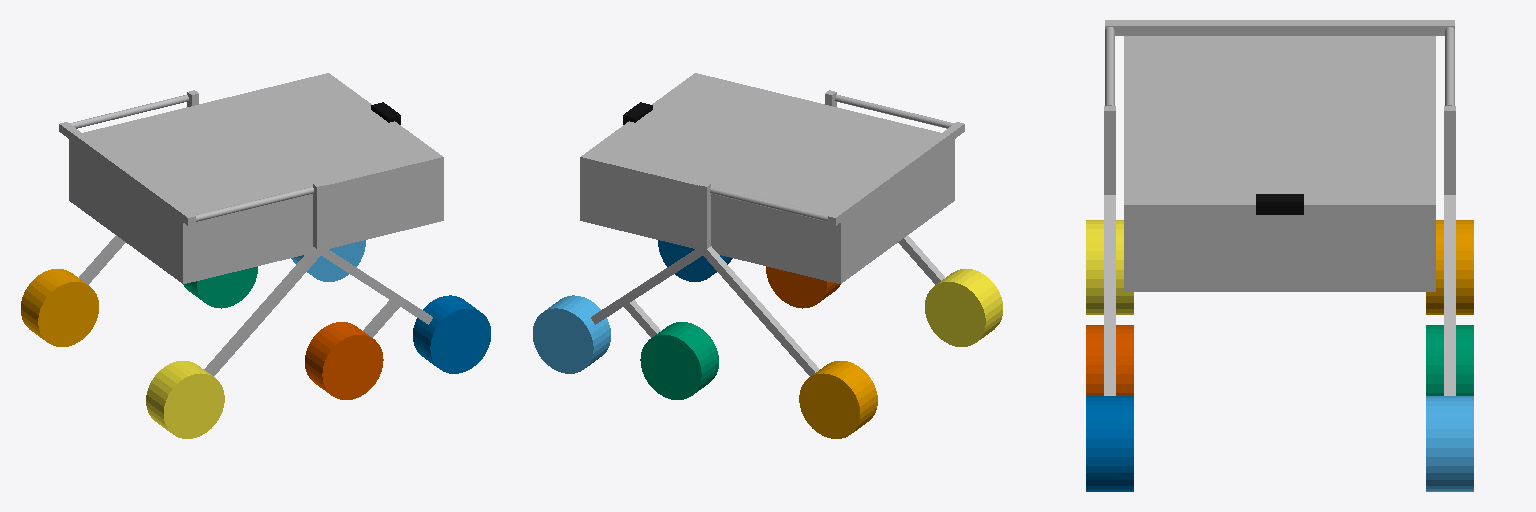
robot.urdf — rover:
<robot name="rover">
  <material name="silver">
    <color rgba="0.75 0.75 0.75 1.0"/>
  </material>

  <link name="base_link">

    <inertial>
      <origin xyz="0 0 0" rpy="0 0 0"/>
      <mass value="10.783699848541888"/>
      <inertia
        ixx="0.4116"
        iyy="0.8034"
        izz="1.0141"
        ixy="0.0"
        ixz="0.0"
        iyz="0.0"/>
    </inertial>

    <visual>
      <origin xyz="0 0 0" rpy="0 0 0"/>
      <geometry>
        <box size="0.85 0.65 0.20"/>
      </geometry>
      <material name="silver"/>
    </visual>

    <collision>
      <origin xyz="0 0 0" rpy="0 0 0"/>
      <geometry>
        <box size="0.85 0.65 0.20"/>
      </geometry>
    </collision>

  </link>

  <link name="differential_bar_link">

  <inertial>
    <origin xyz="0 0 0.0125" rpy="0 0 0"/>
    <mass value="1.2065624999999998"/>
    <inertia
      ixx="0.0536"
      iyy="0.000063"
      izz="0.0536"
      ixy="0.0"
      ixz="0.0"
      iyz="0.0"/>
  </inertial>

  <visual>
    <origin xyz="0 0 0.0125" rpy="0 0 0"/>
    <geometry>
      <box size="0.025 0.73 0.025"/>
    </geometry>
    <material name="silver"/>
  </visual>

  <collision>
    <origin xyz="0 0 0.0125" rpy="0 0 0"/>
    <geometry>
      <box size="0.025 0.73 0.025"/>
    </geometry>
  </collision>

</link>

<link name="support_left_link">

  <inertial>
    <origin xyz="0.19375 0 0" rpy="0 1.57079632679 0"/>
    <mass value="0.24353234277329294"/>

    <inertia
      ixx="0.00001218"
      iyy="0.003050"
      izz="0.003050"
      ixy="0"
      ixz="0"
      iyz="0"/>
  </inertial>

  <visual>
    <origin xyz="0.19375 0 0" rpy="0 1.57079632679 0"/>

    <geometry>
      <cylinder radius="0.01" length="0.3875"/>
    </geometry>

    <material name="silver"/>
  </visual>

  <collision>
    <origin xyz="0.19375 0 0" rpy="0 1.57079632679 0"/>

    <geometry>
      <cylinder radius="0.01" length="0.3875"/>
    </geometry>
  </collision>

</link>


<link name="support_left_yaw_link">
  <inertial>
    <mass value="0.001"/>
    <origin xyz="0 0 0"/>
    <inertia ixx="1e-6" iyy="1e-6" izz="1e-6"
             ixy="0" ixz="0" iyz="0"/>
  </inertial>
</link>

<link name="support_right_yaw_link">
  <inertial>
    <mass value="0.001"/>
    <origin xyz="0 0 0"/>
    <inertia ixx="1e-6" iyy="1e-6" izz="1e-6"
             ixy="0" ixz="0" iyz="0"/>
  </inertial>
</link>

<link name="support_right_link">

  <inertial>
    <origin xyz="0.19375 0 0" rpy="0 1.57079632679 0"/>
    <mass value="0.24353234277329294"/>

    <inertia
      ixx="0.00001218"
      iyy="0.003050"
      izz="0.003050"
      ixy="0"
      ixz="0"
      iyz="0"/>
  </inertial>

  <visual>
    <origin xyz="0.19375 0 0" rpy="0 1.57079632679 0"/>

    <geometry>
      <cylinder radius="0.01" length="0.3875"/>
    </geometry>

    <material name="silver"/>
  </visual>

  <collision>
    <origin xyz="0.19375 0 0" rpy="0 1.57079632679 0"/>

    <geometry>
      <cylinder radius="0.01" length="0.3875"/>
    </geometry>
  </collision>

</link>

<link name="rocker_up_link_left">

  <inertial>
    <origin xyz="0 0 0.1" rpy="0 0 0"/>
    <mass value="0.330565"/>

    <inertia
      ixx="0.00112"
      iyy="0.00112"
      izz="0.0000344"
      ixy="0"
      ixz="0"
      iyz="0"/>
  </inertial>

  <visual>
    <origin xyz="0 0 0.1" rpy="0 0 0"/>

    <geometry>
      <box size="0.025 0.025 0.2"/>
    </geometry>

    <material name="silver"/>
  </visual>

  <collision>
    <origin xyz="0 0 0.1" rpy="0 0 0"/>

    <geometry>
      <box size="0.025 0.025 0.2"/>
    </geometry>
  </collision>

</link>

<link name="rocker_up_link_right">

  <inertial>
    <origin xyz="0 0 0.1" rpy="0 0 0"/>
    <mass value="0.330565"/>

    <inertia
      ixx="0.00112"
      iyy="0.00112"
      izz="0.0000344"
      ixy="0"
      ixz="0"
      iyz="0"/>
  </inertial>

  <visual>
    <origin xyz="0 0 0.1" rpy="0 0 0"/>

    <geometry>
      <box size="0.025 0.025 0.2"/>
    </geometry>

    <material name="silver"/>
  </visual>

  <collision>
    <origin xyz="0 0 0.1" rpy="0 0 0"/>

    <geometry>
      <box size="0.025 0.025 0.2"/>
    </geometry>
  </collision>

</link>

<link name="rocker_long_link_left">

  <inertial>
    <origin xyz="0.286 0 0" rpy="0 0 0"/>
    <mass value="0.945416"/>

    <inertia
      ixx="0.0000985"
      iyy="0.02581"
      izz="0.02581"
      ixy="0"
      ixz="0"
      iyz="0"/>
  </inertial>

  <visual>
    <origin xyz="0.286 0 0" rpy="0 0 0"/>

    <geometry>
      <box size="0.572 0.025 0.025"/>
    </geometry>

    <material name="silver"/>
  </visual>

  <collision>
    <origin xyz="0.286 0 0" rpy="0 0 0"/>

    <geometry>
      <box size="0.572 0.025 0.025"/>
    </geometry>
  </collision>

</link>

<link name="rocker_long_link_right">

  <inertial>
    <origin xyz="0.286 0 0" rpy="0 0 0"/>
    <mass value="0.945416"/>

    <inertia
      ixx="0.0000985"
      iyy="0.02581"
      izz="0.02581"
      ixy="0"
      ixz="0"
      iyz="0"/>
  </inertial>

  <visual>
    <origin xyz="0.286 0 0" rpy="0 0 0"/>

    <geometry>
      <box size="0.572 0.025 0.025"/>
    </geometry>

    <material name="silver"/>
  </visual>

  <collision>
    <origin xyz="0.286 0 0" rpy="0 0 0"/>

    <geometry>
      <box size="0.572 0.025 0.025"/>
    </geometry>
  </collision>

</link>

<link name="rocker_short_link_left">

  <inertial>
    <origin xyz="0.17 0 0" rpy="0 0 0"/>
    <mass value="0.56196"/>

    <inertia
      ixx="0.0000585"
      iyy="0.00548"
      izz="0.00548"
      ixy="0"
      ixz="0"
      iyz="0"/>
  </inertial>

  <visual>
    <origin xyz="0.17 0 0" rpy="0 0 0"/>

    <geometry>
      <box size="0.34 0.025 0.025"/>
    </geometry>

    <material name="silver"/>
  </visual>

  <collision>
    <origin xyz="0.17 0 0" rpy="0 0 0"/>

    <geometry>
      <box size="0.34 0.025 0.025"/>
    </geometry>
  </collision>

</link>

<link name="rocker_short_link_right">

  <inertial>
    <origin xyz="0.17 0 0" rpy="0 0 0"/>
    <mass value="0.56196"/>

    <inertia
      ixx="0.0000585"
      iyy="0.00548"
      izz="0.00548"
      ixy="0"
      ixz="0"
      iyz="0"/>
  </inertial>

  <visual>
    <origin xyz="0.17 0 0" rpy="0 0 0"/>

    <geometry>
      <box size="0.34 0.025 0.025"/>
    </geometry>

    <material name="silver"/>
  </visual>

  <collision>
    <origin xyz="0.17 0 0" rpy="0 0 0"/>

    <geometry>
      <box size="0.34 0.025 0.025"/>
    </geometry>
  </collision>

</link>

<link name="bogie_front_link_left">

  <inertial>
    <origin xyz="0.11575 0 0" rpy="0 0 0"/>
    <mass value="0.38246"/>

    <inertia
      ixx="0.0000310"
      iyy="0.00322"
      izz="0.00322"
      ixy="0"
      ixz="0"
      iyz="0"/>
  </inertial>

  <visual>
    <origin xyz="0.11575 0 0" rpy="0 0 0"/>

    <geometry>
      <box size="0.2315 0.025 0.025"/>
    </geometry>

    <material name="silver"/>
  </visual>

  <collision>
    <origin xyz="0.11575 0 0" rpy="0 0 0"/>

    <geometry>
      <box size="0.2315 0.025 0.025"/>
    </geometry>
  </collision>

</link>

<link name="bogie_mid_link_left">

  <inertial>
    <origin xyz="0.11575 0 0" rpy="0 0 0"/>
    <mass value="0.38246"/>

    <inertia
      ixx="0.0000310"
      iyy="0.00322"
      izz="0.00322"
      ixy="0"
      ixz="0"
      iyz="0"/>
  </inertial>

  <visual>
    <origin xyz="0.11575 0 0" rpy="0 0 0"/>

    <geometry>
      <box size="0.2315 0.025 0.025"/>
    </geometry>

    <material name="silver"/>
  </visual>

  <collision>
    <origin xyz="0.11575 0 0" rpy="0 0 0"/>

    <geometry>
      <box size="0.2315 0.025 0.025"/>
    </geometry>
  </collision>

</link>

<link name="bogie_mid_link_right">

  <inertial>
    <origin xyz="0.11575 0 0" rpy="0 0 0"/>
    <mass value="0.38246"/>

    <inertia
      ixx="0.0000310"
      iyy="0.00322"
      izz="0.00322"
      ixy="0"
      ixz="0"
      iyz="0"/>
  </inertial>

  <visual>
    <origin xyz="0.11575 0 0" rpy="0 0 0"/>

    <geometry>
      <box size="0.2315 0.025 0.025"/>
    </geometry>

    <material name="silver"/>
  </visual>

  <collision>
    <origin xyz="0.11575 0 0" rpy="0 0 0"/>

    <geometry>
      <box size="0.2315 0.025 0.025"/>
    </geometry>
  </collision>

</link>

<link name="bogie_front_link_right">

  <inertial>
    <origin xyz="0.11575 0 0" rpy="0 0 0"/>
    <mass value="0.38246"/>

    <inertia
      ixx="0.0000310"
      iyy="0.00322"
      izz="0.00322"
      ixy="0"
      ixz="0"
      iyz="0"/>
  </inertial>

  <visual>
    <origin xyz="0.11575 0 0" rpy="0 0 0"/>

    <geometry>
      <box size="0.2315 0.025 0.025"/>
    </geometry>

    <material name="silver"/>
  </visual>

  <collision>
    <origin xyz="0.11575 0 0" rpy="0 0 0"/>

    <geometry>
      <box size="0.2315 0.025 0.025"/>
    </geometry>
  </collision>

</link>


<link name="wheel_back_left_link">

  <inertial>
    <origin xyz="0 0 0" rpy="0 0 0"/>
    <mass value="0.37699111843077493"/>
    <inertia ixx="0.001" iyy="0.001" izz="0.001"
             ixy="0" ixz="0" iyz="0"/>
  </inertial>

  <visual>
    <geometry>
      <cylinder radius="0.1" length="0.1"/>
    </geometry>
    <material name="brown"/>
  </visual>

  <collision>
    <geometry>
      <cylinder radius="0.1" length="0.1"/>
    </geometry>
    <surface>
  <friction>
    <ode>
      <mu>1.2</mu>
      <mu2>1.2</mu2>
    </ode>
  </friction>

  <bounce>
    <restitution_coefficient>0.2</restitution_coefficient>
  </bounce>
</surface>
  </collision>

</link>

<link name="wheel_front_left_link">
  <inertial>
    <origin xyz="0 0 0" rpy="0 0 0"/>
    <mass value="0.37699111843077493"/>
    <inertia ixx="0.001" iyy="0.001" izz="0.001"
             ixy="0" ixz="0" iyz="0"/>
  </inertial>

  <visual>
    <geometry>
      <cylinder radius="0.1" length="0.1"/>
    </geometry>
    <material name="brown"/>
  </visual>

  <collision>
    <geometry>
      <cylinder radius="0.1" length="0.1"/>
    </geometry>
    <surface>
  <friction>
    <ode>
      <mu>1.2</mu>
      <mu2>1.2</mu2>
    </ode>
  </friction>

  <bounce>
    <restitution_coefficient>0.2</restitution_coefficient>
  </bounce>
</surface>
  </collision>
</link>

<link name="wheel_mid_left_link">
  <inertial>
    <origin xyz="0 0 0" rpy="0 0 0"/>
    <mass value="0.37699111843077493"/>
    <inertia ixx="0.001" iyy="0.001" izz="0.001"
             ixy="0" ixz="0" iyz="0"/>
  </inertial>

  <visual>
    <geometry>
      <cylinder radius="0.1" length="0.1"/>
    </geometry>
    <material name="brown"/>
  </visual>

  <collision>
    <geometry>
      <cylinder radius="0.1" length="0.1"/>
    </geometry>
    <surface>
  <friction>
    <ode>
      <mu>1.2</mu>
      <mu2>1.2</mu2>
    </ode>
  </friction>

  <bounce>
    <restitution_coefficient>0.2</restitution_coefficient>
  </bounce>
</surface>
  </collision>
</link>




<link name="wheel_back_right_link">

  <inertial>
    <origin xyz="0 0 0" rpy="0 0 0"/>
    <mass value="0.37699111843077493"/>
    <inertia ixx="0.001" iyy="0.001" izz="0.001"
             ixy="0" ixz="0" iyz="0"/>
  </inertial>

  <visual>
    <geometry>
      <cylinder radius="0.1" length="0.1"/>
    </geometry>
    <material name="brown"/>
  </visual>

  <collision>
    <geometry>
      <cylinder radius="0.1" length="0.1"/>
    </geometry>
    <surface>
  <friction>
    <ode>
      <mu>1.2</mu>
      <mu2>1.2</mu2>
    </ode>
  </friction>

  <bounce>
    <restitution_coefficient>0.2</restitution_coefficient>
  </bounce>
</surface>
  </collision>

</link>

<link name="wheel_front_right_link">
  <inertial>
    <origin xyz="0 0 0" rpy="0 0 0"/>
    <mass value="0.37699111843077493"/>
    <inertia ixx="0.001" iyy="0.001" izz="0.001"
             ixy="0" ixz="0" iyz="0"/>
  </inertial>

  <visual>
    <geometry>
      <cylinder radius="0.1" length="0.1"/>
    </geometry>
    <material name="brown"/>
  </visual>

  <collision>
    <geometry>
      <cylinder radius="0.1" length="0.1"/>
    </geometry>
    <surface>
  <friction>
    <ode>
      <mu>1.2</mu>
      <mu2>1.2</mu2>
    </ode>
  </friction>

  <bounce>
    <restitution_coefficient>0.2</restitution_coefficient>
  </bounce>
</surface>
  </collision>
</link>

<link name="wheel_mid_right_link">
  <inertial>
    <origin xyz="0 0 0" rpy="0 0 0"/>
    <mass value="0.37699111843077493"/>
    <inertia ixx="0.001" iyy="0.001" izz="0.001"
             ixy="0" ixz="0" iyz="0"/>
  </inertial>

  <visual>
    <geometry>
      <cylinder radius="0.1" length="0.1"/>
    </geometry>
    <material name="brown"/>
  </visual>

  <collision>
    <geometry>
      <cylinder radius="0.1" length="0.1"/>
    </geometry>
    <surface>
  <friction>
    <ode>
      <mu>1.2</mu>
      <mu2>1.2</mu2>
    </ode>
  </friction>

  <bounce>
    <restitution_coefficient>0.2</restitution_coefficient>
  </bounce>
</surface>
  </collision>
</link>


<joint name="wheel_back_right_joint" type="continuous">
  <parent link="rocker_long_link_right"/>
  <child link="wheel_back_right_link"/>
  <origin xyz="0.572 0 0" rpy="1.5708 -0.866 0"/>
  <axis xyz="0 0 -1"/>
</joint>

<joint name="wheel_front_right_joint" type="continuous">
  <parent link="bogie_front_link_right"/>
  <child link="wheel_front_right_link"/>
  <origin xyz="0.2315 0 0" rpy="1.5708 -0.866  0"/>
  <axis xyz="0 0 -1"/>
</joint>

<joint name="wheel_mid_right_joint" type="continuous">
  <parent link="bogie_mid_link_right"/>
  <child link="wheel_mid_right_link"/>
  <origin xyz="0.2315 0 0" rpy="1.5708 -0.866  0"/>
  <axis xyz="0 0 -1"/>
</joint>

<joint name="wheel_back_left_joint" type="continuous">
  <parent link="rocker_long_link_left"/>
  <child link="wheel_back_left_link"/>
  <origin xyz="0.572 0 0" rpy="1.5708 -0.866  0"/>
  <axis xyz="0 0 -1"/>
</joint>

<joint name="wheel_front_left_joint" type="continuous">
  <parent link="bogie_front_link_left"/>
  <child link="wheel_front_left_link"/>
  <origin xyz="0.2315 0 0" rpy="1.5708 -0.866  0"/>
  <axis xyz="0 0 -1"/>
</joint>

<joint name="wheel_mid_left_joint" type="continuous">
  <parent link="bogie_mid_link_left"/>
  <child link="wheel_mid_left_link"/>
  <origin xyz="0.2315 0 0" rpy="1.5708 -0.866  0"/>
  <axis xyz="0 0 -1"/>
</joint>



<joint name="bogie_right_joint" type="continuous">

  <parent link="rocker_short_link_right"/>
  <child link="bogie_front_link_right"/>

  <origin xyz="0.34 0 0" rpy="0 0 0"/>

  <axis xyz="0 1 0"/>
    <limit lower="-0.524" upper="0.524" effort="10" velocity="1"/>

</joint>

<joint name="bogie_mid_right_joint" type="fixed">

  <parent link="bogie_front_link_right"/>
  <child link="bogie_mid_link_right"/>

  <origin xyz="0 0 0" rpy="0 1.731925 0"/>

</joint>

<joint name="bogie__back_left_joint" type="fixed">

  <parent link="bogie_front_link_left"/>
  <child link="bogie_mid_link_left"/>

  <origin xyz="0 0 0" rpy="0 1.731925 0"/>

  <axis xyz="0 1 0"/>

</joint>


<joint name="bogie_left_joint" type="continuous">

  <parent link="rocker_short_link_left"/>
  <child link="bogie_front_link_left"/>

  <origin xyz="0.34 0 0" rpy="0 0 0"/>

  <axis xyz="0 1 0"/>
    <limit lower="-0.524" upper="0.524" effort="10" velocity="1"/>

</joint>




<joint name="rocker_long_right_fixed_joint" type="fixed">

  <parent link="rocker_up_link_right"/>
  <child link="rocker_long_link_right"/>

  <origin
      xyz="0 0 0"
      rpy="0 2.4368 0"/>

</joint>


<joint name="rocker_long_left_fixed_joint" type="fixed">

  <parent link="rocker_up_link_left"/>
  <child link="rocker_long_link_left"/>

  <origin
      xyz="0 0 0"
      rpy="0 2.4368 0"/>

</joint>

<joint name="rocker_short_right_fixed_joint" type="fixed">

  <parent link="rocker_up_link_right"/>
  <child link="rocker_short_link_right"/>

  <origin
      xyz="0 0 0"
      rpy="0 0.704836 0"/>

</joint>

<joint name="rocker_short_left_fixed_joint" type="fixed">

  <parent link="rocker_up_link_left"/>
  <child link="rocker_short_link_left"/>

  <origin
      xyz="0 0 0"
      rpy="0 0.704836 0"/>

</joint>

<joint name="rocker_left_base_joint" type="continuous">
  <parent link="base_link"/>
  <child link="rocker_up_link_left"/>

  <origin xyz="0 0.355 -.075" rpy="0 0 0"/>

  <axis xyz="0 1 0"/>
    <limit lower="-0.524" upper="0.524" effort="10" velocity="1"/>
</joint>

<joint name="rocker_right_base_joint" type="continuous">
  <parent link="base_link"/>
  <child link="rocker_up_link_right"/>

  <origin xyz="0 -0.355 -0.075" rpy="0 0 0"/>

  <axis xyz="0 1 0"/>
    <limit lower="-0.524" upper="0.524" effort="10" velocity="1"/>
</joint>

<joint name="support_right_yaw_joint" type="continuous">
  <parent link="differential_bar_link"/>
  <child link="support_right_yaw_link"/>

  <origin xyz="0.0125 -0.355 0.0125" rpy="0 0 0"/>

  <axis xyz="0 0 1"/>
    <limit lower="-0.524" upper="0.524" effort="10" velocity="1"/>
</joint>

<joint name="support_right_pitch_joint" type="continuous">
  <parent link="support_right_yaw_link"/>
  <child link="support_right_link"/>

  <origin xyz="0 0 0" rpy="0 0 0"/>

  <axis xyz="0 1 0"/>
    <limit lower="-0.524" upper="0.524" effort="10" velocity="1"/>
</joint>



<joint name="support_left_yaw_joint" type="continuous">
  <parent link="differential_bar_link"/>
  <child link="support_left_yaw_link"/>

  <origin xyz="0.0125 0.355 0.0125" rpy="0 0 0"/>

  <axis xyz="0 0 1"/>
    <limit lower="-0.524" upper="0.524" effort="10" velocity="1"/>
</joint>

<joint name="support_left_pitch_joint" type="continuous">
  <parent link="support_left_yaw_link"/>
  <child link="support_left_link"/>

  <origin xyz="0 0 0" rpy="0 0 0"/>

  <axis xyz="0 1 0"/>
    <limit lower="-0.524" upper="0.524" effort="10" velocity="1"/>
</joint>



<joint name="joint_differential" type="continuous">
  <parent link="base_link"/>
  <child link="differential_bar_link"/>

  <origin xyz="-0.42 0 0.10" rpy="0 0 0"/>

  <axis xyz="0 0 1"/>
    <limit lower="-0.3" upper="0.3" effort="10" velocity="1"/>
</joint>


<!-- ===== RGB-D Camera ===== -->
<link name="camera_link">
  <inertial>
    <origin xyz="0 0 0" rpy="0 0 0"/>
    <mass value="0.05"/>
    <inertia ixx="1e-5" iyy="1e-5" izz="1e-5"
             ixy="0" ixz="0" iyz="0"/>
  </inertial>
  <visual>
    <origin xyz="0 0 0" rpy="0 0 0"/>
    <geometry>
      <box size="0.04 0.10 0.03"/>
    </geometry>
    <material name="black">
      <color rgba="0.1 0.1 0.1 1.0"/>
    </material>
  </visual>
  <collision>
    <origin xyz="0 0 0" rpy="0 0 0"/>
    <geometry>
      <box size="0.04 0.10 0.03"/>
    </geometry>
  </collision>
</link>

<!-- optical frame: z forward, x right, y down — standard camera convention -->
<link name="camera_optical_link"/>

<joint name="camera_joint" type="fixed">
  <parent link="base_link"/>
  <child link="camera_link"/>
  <!-- 0.425 forward (x), 0.325 left (y), 0.1 up (z) from base_link centre,
       sitting on top of the chassis (chassis half-height = 0.10 m) -->
  <origin xyz="0.425 0 0.1" rpy="0 0 0"/>
</joint>

<!-- optical frame rotated so +Z points forward into the scene -->
<joint name="camera_optical_joint" type="fixed">
  <parent link="camera_link"/>
  <child link="camera_optical_link"/>
  <!-- standard ROS optical convention: roll -90°, yaw -90° -->
  <origin xyz="0 0 0" rpy="-1.5708 0 -1.5708"/>
</joint>

</robot>

--- What the picture shows (computed from the rendered views, not written in the file) ---
Views: 3 orthographic renders of the robot side by side, from view 1: azimuth 30°, elevation 25°; view 2: azimuth 150°, elevation 25°; view 3: azimuth 270°, elevation 25°.
Robot: rover — 24 links, 23 joints (15 continuous, 8 fixed); root link base_link; default pose: all joints at 0.
Links seen in each view (by area): view 1: base_link, wheel_back_right_link, wheel_mid_right_link, wheel_back_left_link, wheel_front_right_link, differential_bar_link, rocker_long_link_right, wheel_mid_left_link, wheel_front_left_link, support_right_link, rocker_short_link_right, support_left_link (+3 smaller); view 2: base_link, wheel_back_left_link, wheel_mid_left_link, wheel_back_right_link, wheel_front_left_link, differential_bar_link, rocker_long_link_left, wheel_mid_right_link, wheel_front_right_link, support_left_link, support_right_link, rocker_short_link_left (+3 smaller); view 3: base_link, differential_bar_link, wheel_front_left_link, wheel_front_right_link, wheel_back_left_link, wheel_back_right_link, wheel_mid_left_link, wheel_mid_right_link, rocker_short_link_left, rocker_short_link_right, rocker_up_link_left, rocker_up_link_right (+5 smaller).
Link boxes in pixels (box(x1,y1,x2,y2)): base_link: box(69, 73, 443, 283); wheel_back_right_link: box(146, 361, 224, 438); wheel_mid_right_link: box(305, 322, 383, 399); wheel_back_left_link: box(21, 269, 98, 346); wheel_front_right_link: box(413, 295, 490, 373); differential_bar_link: box(59, 122, 195, 225); rocker_long_link_right: box(204, 246, 322, 376); wheel_mid_left_link: box(183, 266, 257, 308); wheel_front_left_link: box(291, 240, 365, 281); support_right_link: box(195, 187, 313, 221); rocker_short_link_right: box(319, 247, 401, 303); support_left_link: box(69, 95, 188, 128); base_link: box(580, 73, 954, 283); wheel_back_left_link: box(799, 361, 877, 438); wheel_mid_left_link: box(640, 322, 718, 399); wheel_back_right_link: box(925, 269, 1002, 346); wheel_front_left_link: box(533, 295, 610, 373); differential_bar_link: box(828, 122, 964, 225); rocker_long_link_left: box(701, 246, 819, 376); wheel_mid_right_link: box(766, 266, 840, 308); wheel_front_right_link: box(658, 240, 732, 281); support_left_link: box(710, 187, 828, 221); support_right_link: box(835, 95, 954, 128); rocker_short_link_left: box(622, 247, 702, 303); base_link: box(1124, 36, 1435, 291); differential_bar_link: box(1105, 20, 1454, 35); wheel_front_left_link: box(1426, 396, 1473, 491); wheel_front_right_link: box(1086, 396, 1133, 491); wheel_back_left_link: box(1426, 220, 1473, 314); wheel_back_right_link: box(1086, 220, 1133, 314); wheel_mid_left_link: box(1426, 325, 1473, 395); wheel_mid_right_link: box(1086, 325, 1133, 395); rocker_short_link_left: box(1444, 195, 1455, 339); rocker_short_link_right: box(1104, 195, 1115, 339); rocker_up_link_left: box(1444, 106, 1455, 194); rocker_up_link_right: box(1104, 106, 1115, 194).
Bounding box of the posed robot: 1.07 × 0.81 × 0.6706 m (x, y, z).
Geometry: primitives only (box / cylinder / sphere), no mesh files.
